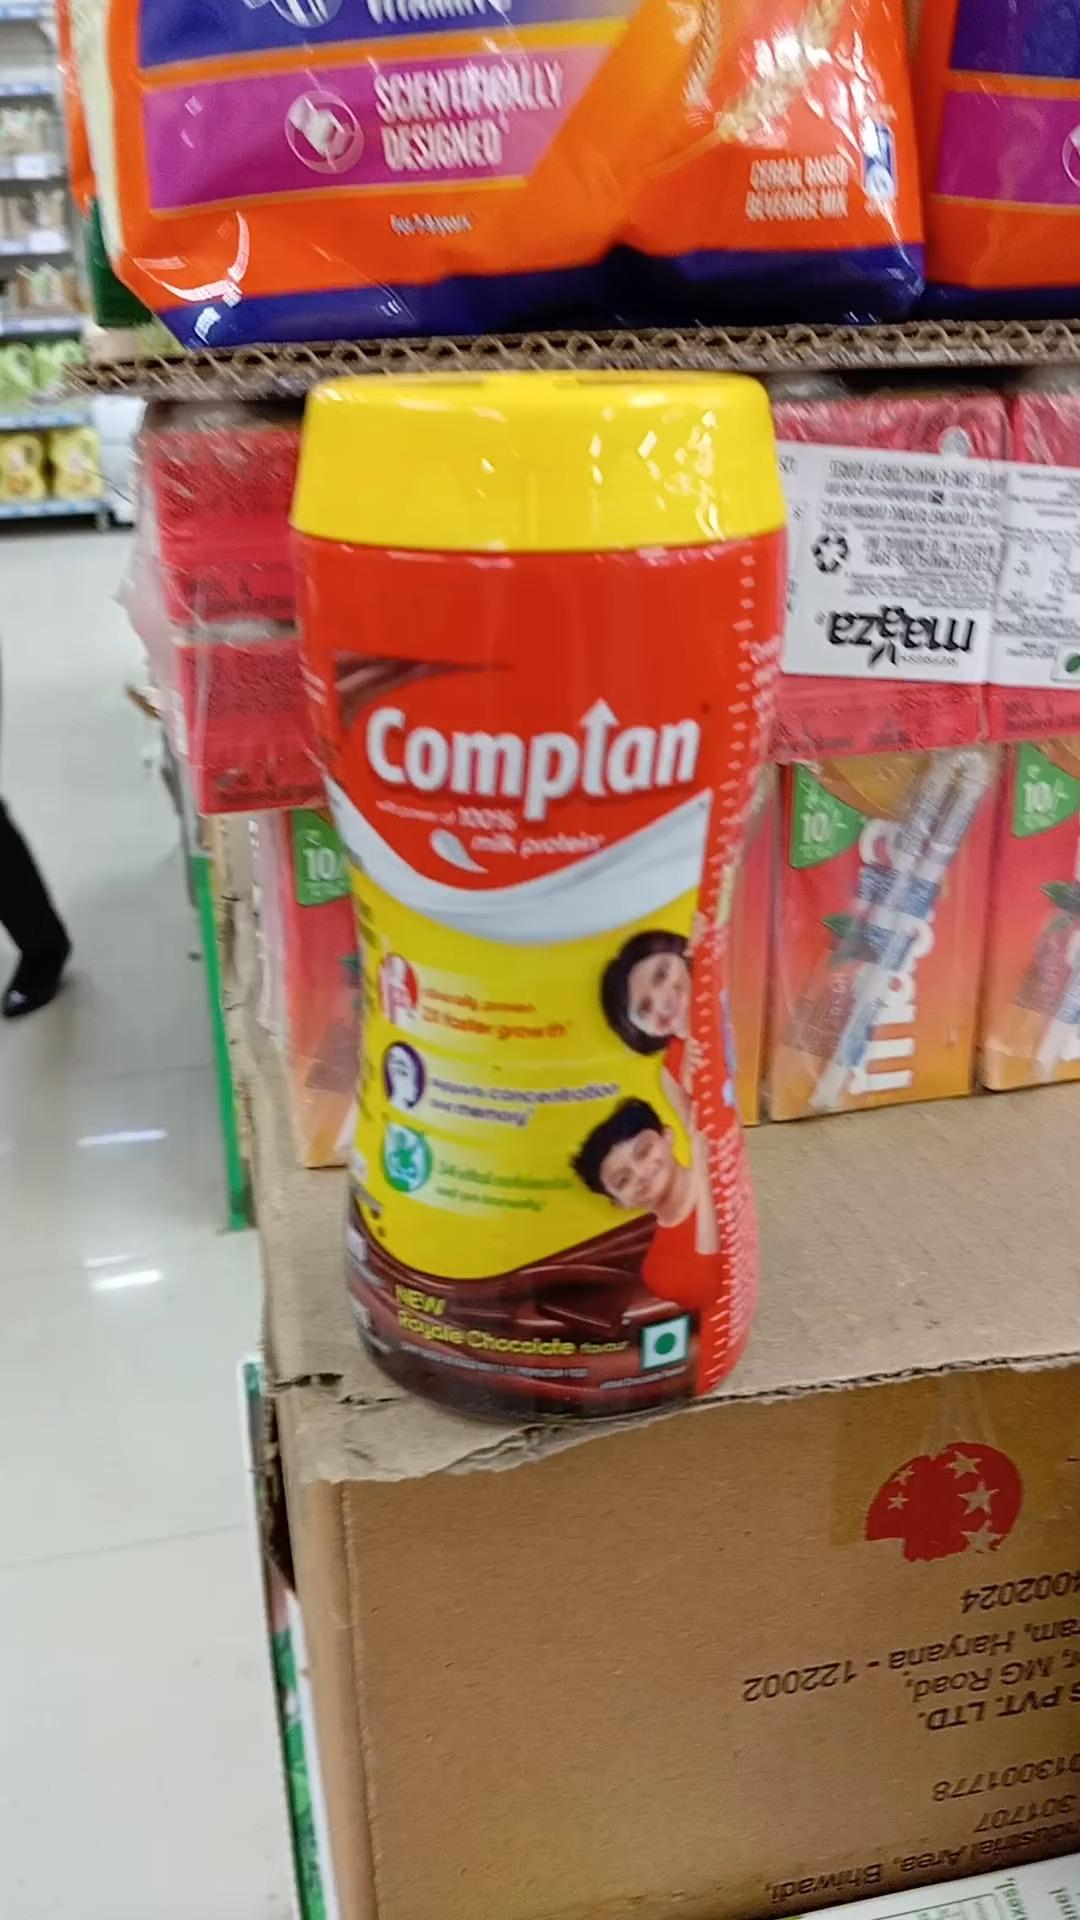COMPLAN_CHOCOLATE_200_GMS_JAR: (305, 365, 735, 1390)
